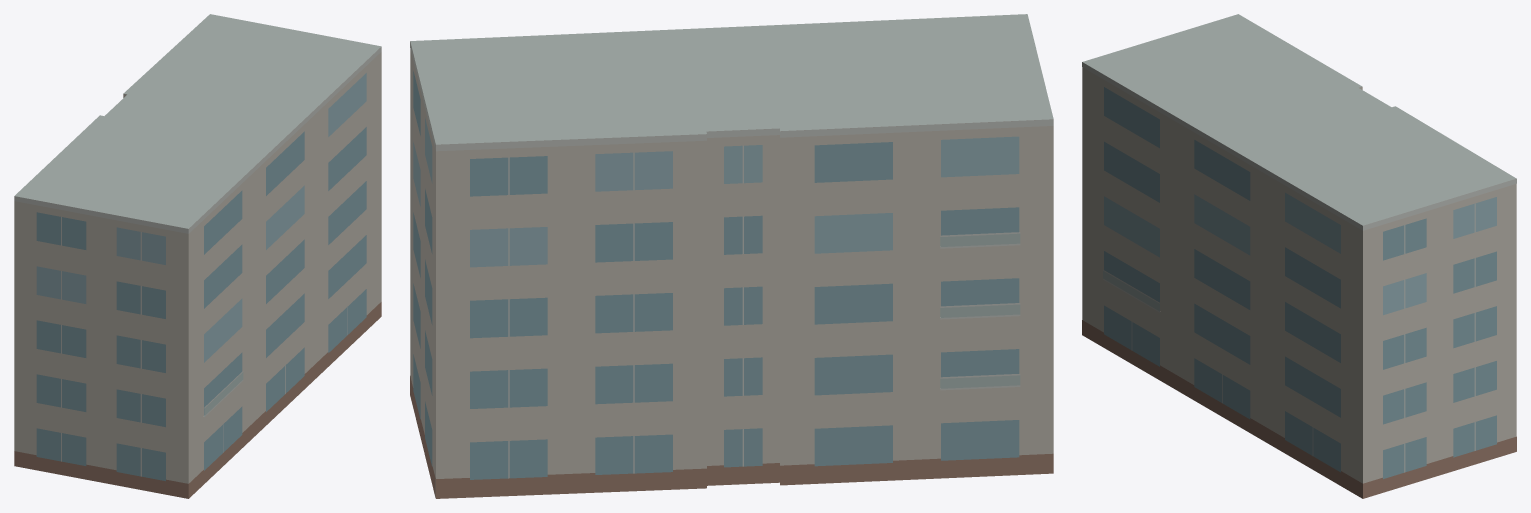
File: survey-upis-32665166.glb
3 renders of one model, left to right at view 1: azimuth 30°, elevation 25°; view 2: azimuth 150°, elevation 25°; view 3: azimuth 270°, elevation 25°, orthographic. The views are drawn at different scales.
Visible parts, largest first — view 1: survey-upis-32665166.tmp; view 2: survey-upis-32665166.tmp; view 3: survey-upis-32665166.tmp.
Boxes of the visible parts, box(x1,y1,x2,y2) form: survey-upis-32665166.tmp: box(14, 14, 381, 498); survey-upis-32665166.tmp: box(410, 14, 1053, 498); survey-upis-32665166.tmp: box(1082, 14, 1516, 498).
Bounding box in the file's own units: 21.8 × 13.11 × 18.91.
